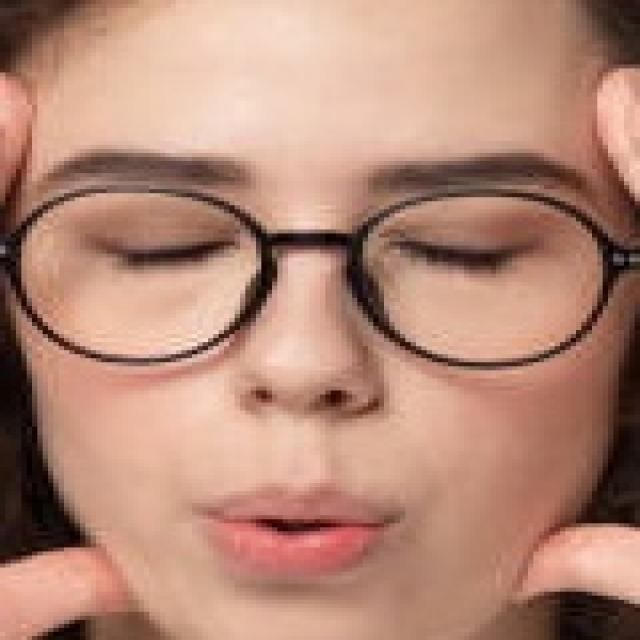Anxiety: (0, 0, 635, 636)
